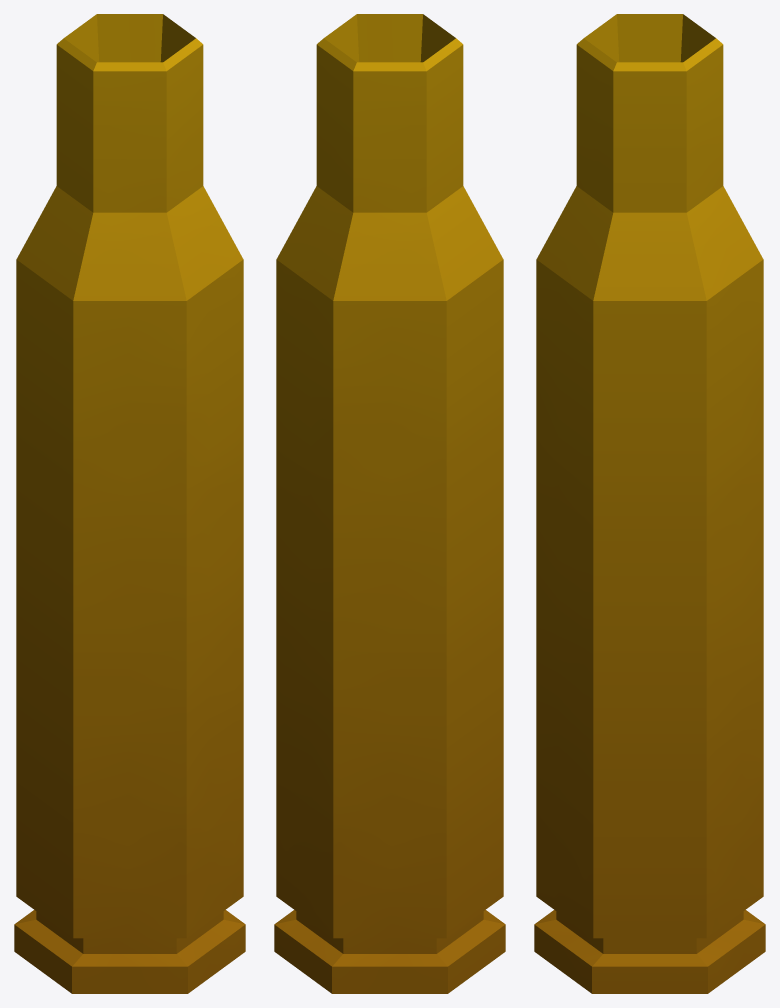
File: Bullet_50Cal_V1_Shell.glb
3 renders of one model, left to right at view 1: azimuth 30°, elevation 25°; view 2: azimuth 150°, elevation 25°; view 3: azimuth 270°, elevation 25°, orthographic.
Visible parts, largest first — view 1: Bullet_50Cal_V1_Shell; view 2: Bullet_50Cal_V1_Shell; view 3: Bullet_50Cal_V1_Shell.
Boxes of the visible parts, x1,y1,x2,y2 form: Bullet_50Cal_V1_Shell: (14,14,245,993); Bullet_50Cal_V1_Shell: (274,14,505,993); Bullet_50Cal_V1_Shell: (534,14,765,993).
Size of the model in its own units: 0.0201 by 0.101 by 0.0232.
1 material, 1 textured.
